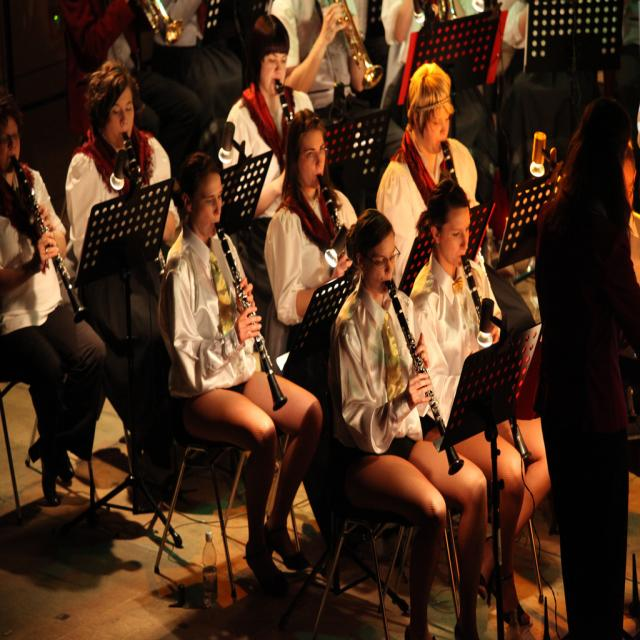clarinet: (384, 279, 466, 479), (209, 218, 290, 412), (460, 254, 532, 461), (9, 153, 89, 324), (122, 134, 166, 283), (316, 175, 344, 234), (438, 140, 462, 186), (273, 81, 294, 129)
